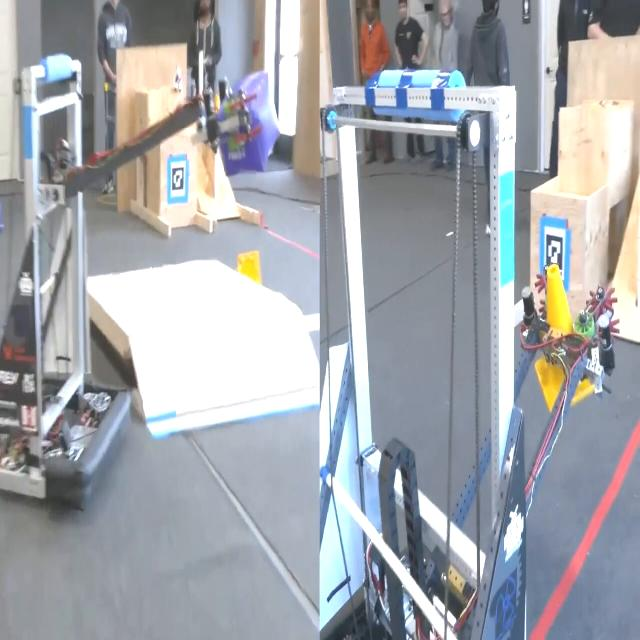frc_cone: (535, 264, 593, 419), (236, 250, 262, 288)
frc_cube: (216, 71, 276, 172)
